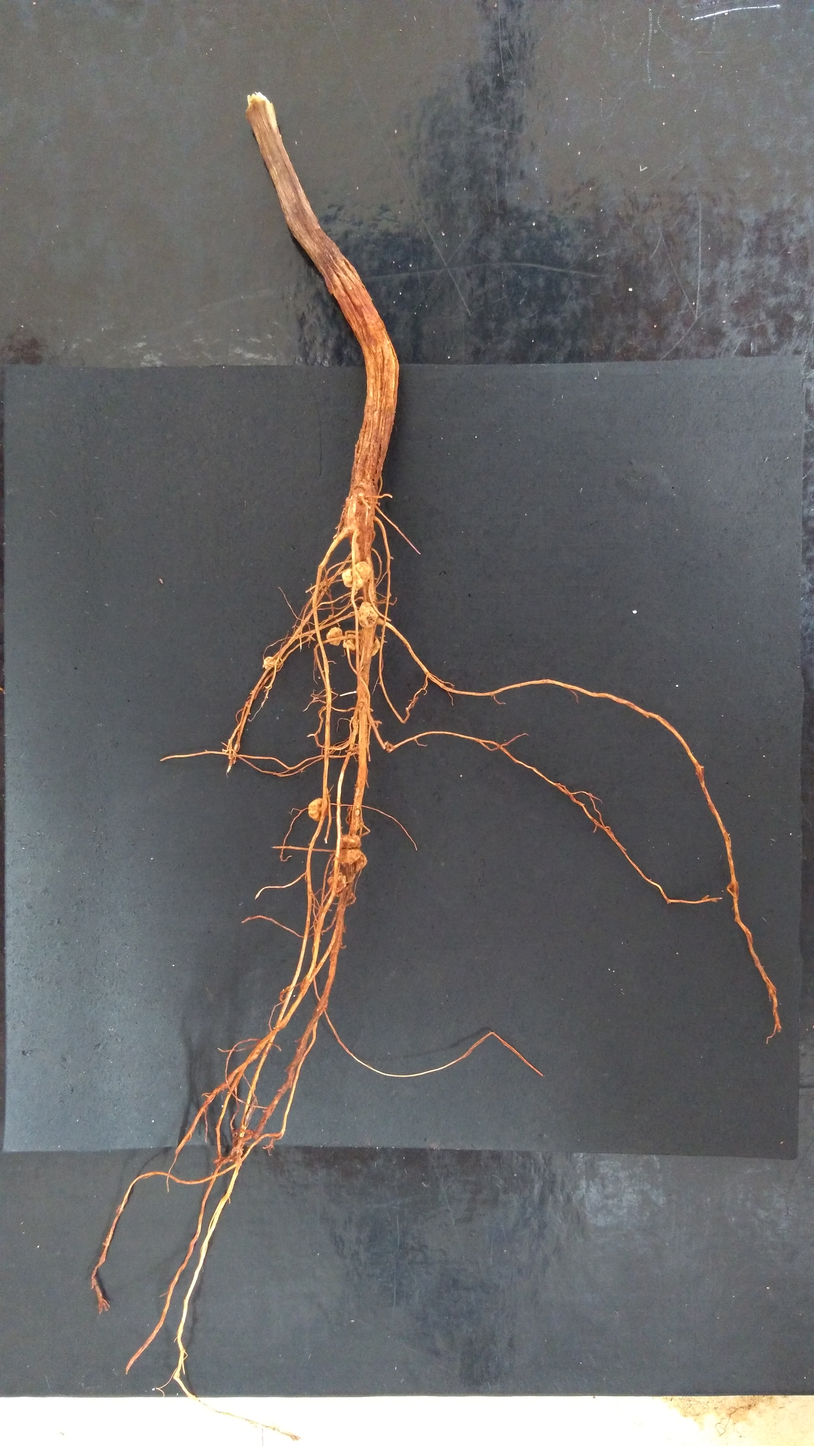nodule: (357, 601, 379, 629), (306, 797, 329, 822), (334, 833, 363, 849), (327, 871, 347, 894), (341, 568, 363, 588), (334, 848, 362, 863), (325, 626, 343, 647), (355, 561, 372, 583), (369, 634, 381, 658), (354, 851, 369, 870), (341, 633, 356, 651), (262, 656, 276, 670), (353, 808, 361, 817), (358, 702, 364, 708)
